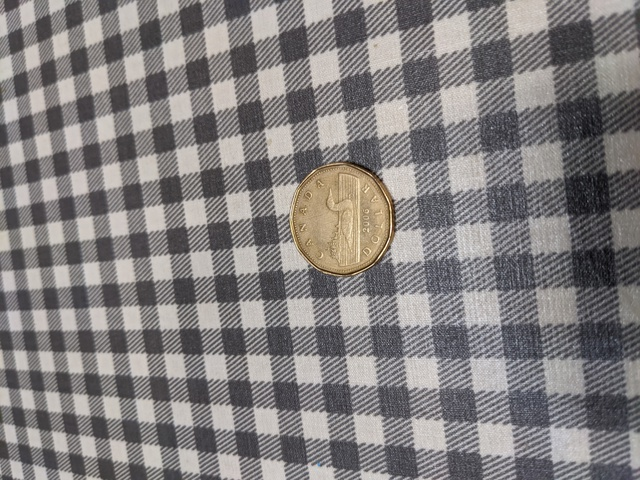loonie: (279, 156, 412, 287)
